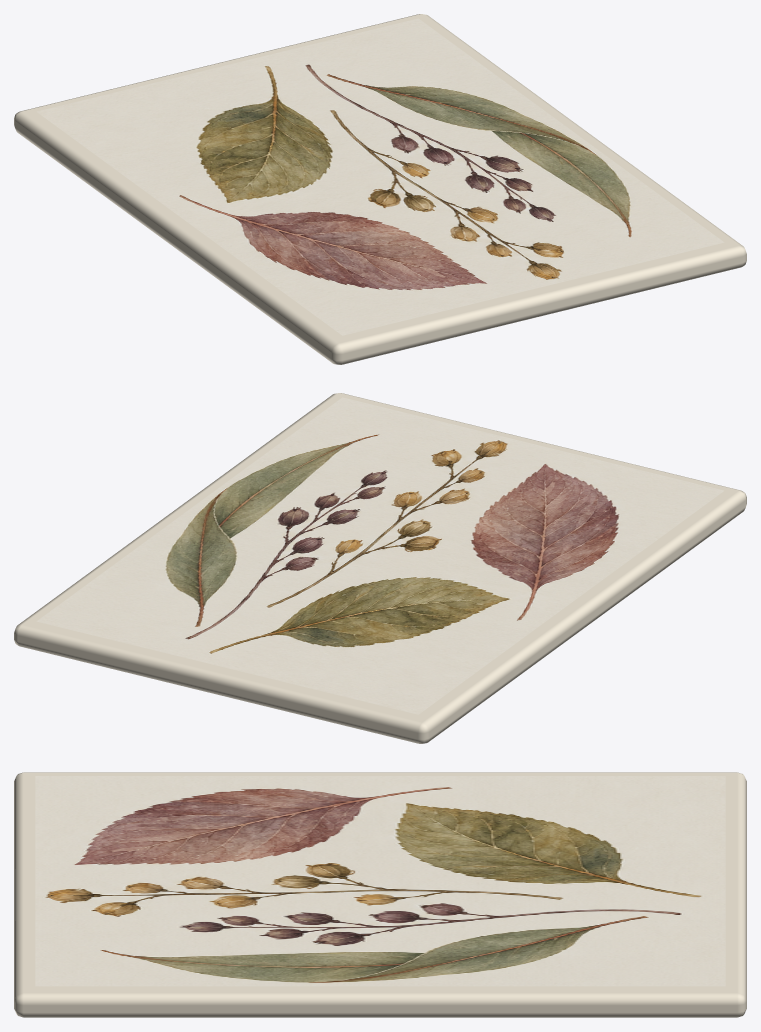
The model's file is product-off.card.glb.
The picture shows the model from 3 angles, top to bottom: view 1: azimuth 30°, elevation 25°; view 2: azimuth 150°, elevation 25°; view 3: azimuth 270°, elevation 25°; orthographic projection. The views are drawn at different scales.
Parts seen in each view (by area): view 1: product-off.card; view 2: product-off.card; view 3: product-off.card.
Part boxes in pixels (box(x1,y1,x2,y2)): product-off.card: box(14, 14, 746, 364); product-off.card: box(14, 393, 746, 743); product-off.card: box(14, 772, 746, 1017).
Bounding box in the file's own units: 0.28 × 0.015 × 0.38.
Materials: 2 (1 with a texture image).
